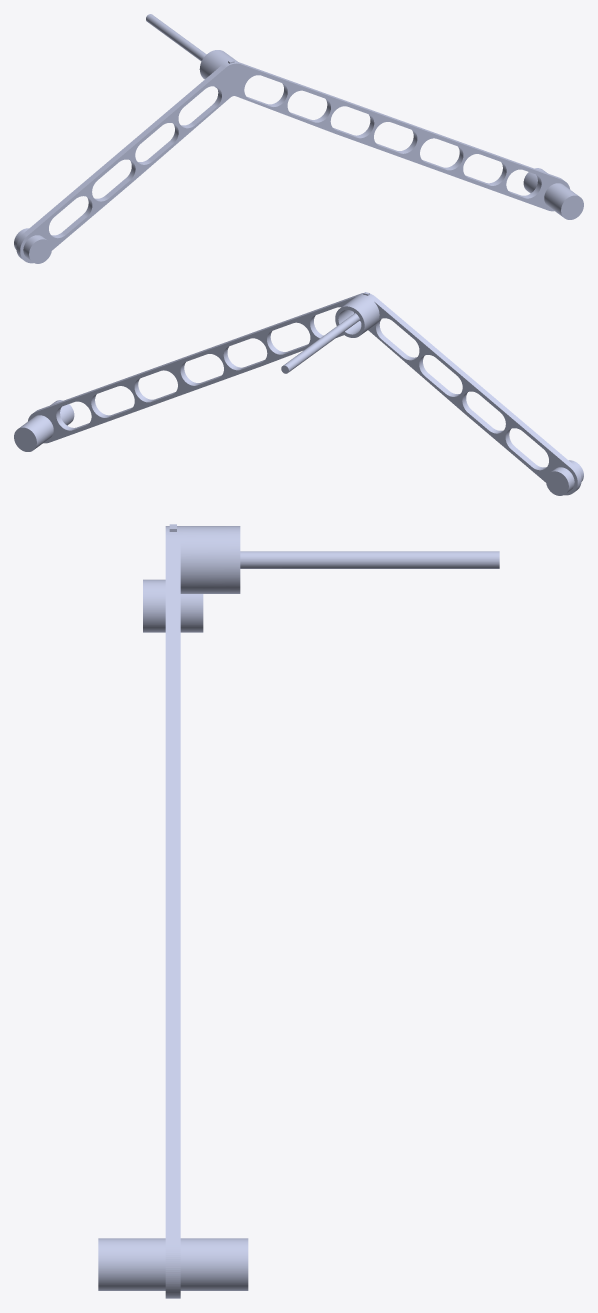
Rendered from Pata2.dae.
The picture shows the model from 3 angles, top to bottom: view 1: azimuth 30°, elevation 25°; view 2: azimuth 150°, elevation 25°; view 3: azimuth 270°, elevation 25°; orthographic projection. The views are drawn at different scales.
Visible parts, largest first — view 1: 5eb49837903e9e157c41ec7e; view 2: 5eb49837903e9e157c41ec7e; view 3: 5eb49837903e9e157c41ec7e.
Boxes of the visible parts, x1,y1,x2,y2 form: 5eb49837903e9e157c41ec7e: [14, 14, 583, 263]; 5eb49837903e9e157c41ec7e: [14, 292, 583, 495]; 5eb49837903e9e157c41ec7e: [98, 524, 499, 1298].
Bounding box in the file's own units: 1.07 × 0.3373 × 0.4211.
